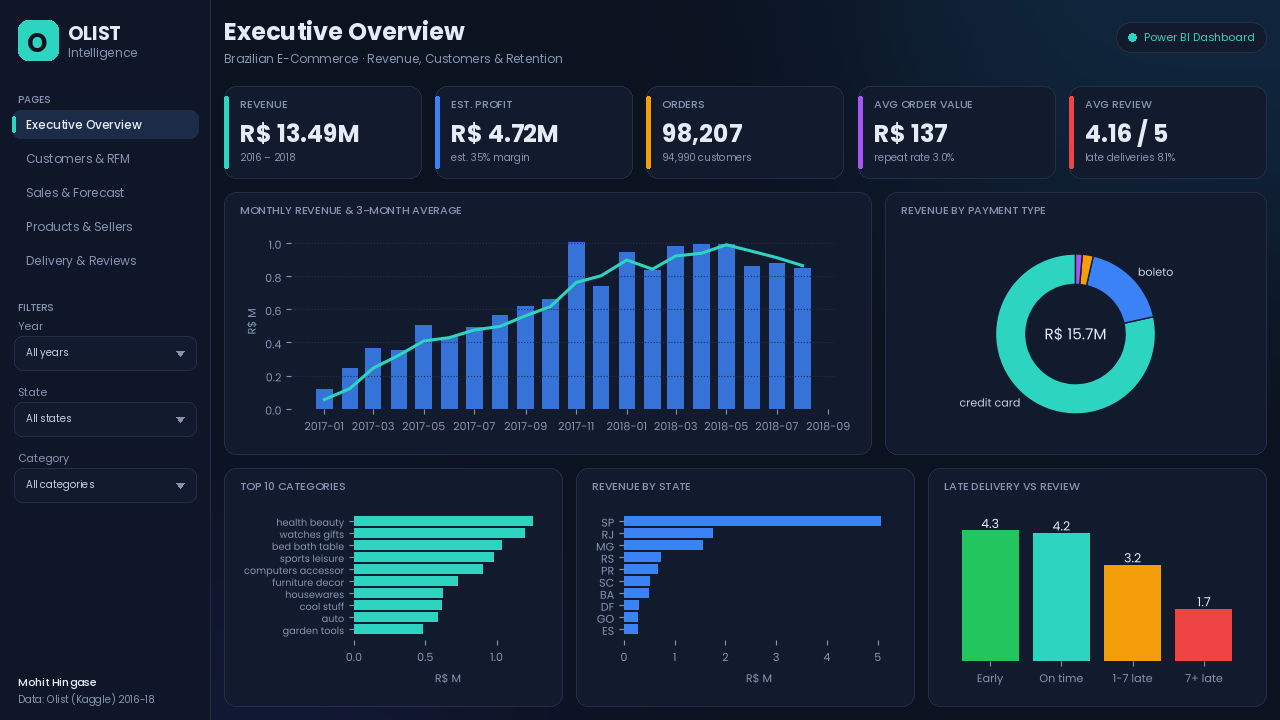

What the dashboard file says about the page in this screenshot:
{"tool":"powerbi","page":{"name":"Executive Overview","canvas":[1280,720],"ordinal":0},"visuals":[{"type":"card","fields":{"Values":["fact_orders.Revenue"]},"box":[234,112,179,62],"z":1000},{"type":"card","fields":{"Values":["fact_orders.Est Gross Profit"]},"box":[445,112,179,62],"z":1000},{"type":"card","fields":{"Values":["fact_orders.Orders"]},"box":[656,112,179,62],"z":1000},{"type":"card","fields":{"Values":["fact_orders.AOV"]},"box":[868,112,179,62],"z":1000},{"type":"card","fields":{"Values":["fact_orders.Avg Review"]},"box":[1079,112,179,62],"z":1000},{"type":"lineClusteredColumnComboChart","fields":{"Category":["dim_date.year_month"],"Y":["fact_orders.Revenue"],"Y2":["fact_orders.Revenue 3M Avg"]},"box":[230,222,635,226],"z":1000},{"type":"donutChart","fields":{"Category":["fact_orders.payment_type"],"Y":["fact_orders.Revenue"]},"box":[891,222,369,226],"z":1000},{"type":"barChart","fields":{"Category":["dim_product.category"],"Y":["fact_order_items.Top10 Category Revenue"]},"box":[230,498,326,202],"z":1000},{"type":"barChart","fields":{"Category":["fact_orders.customer_state"],"Y":["fact_orders.Top10 State Revenue"]},"box":[582,498,326,202],"z":1000},{"type":"columnChart","fields":{"Category":["fact_orders.Delivery Bucket"],"Y":["fact_orders.Bucket Avg Review"]},"box":[934,498,326,202],"z":1000},{"type":"slicer","fields":{"Values":["dim_date.year"]},"box":[14,351,182,40],"z":3000},{"type":"slicer","fields":{"Values":["dim_customer.state"]},"box":[14,417,182,40],"z":3000},{"type":"slicer","fields":{"Values":["dim_product.category"]},"box":[14,483,182,40],"z":3000},{"type":"actionButton","box":[12,144,186,28],"z":4001},{"type":"actionButton","box":[12,178,186,28],"z":4002},{"type":"actionButton","box":[12,212,186,28],"z":4003},{"type":"actionButton","box":[12,246,186,28],"z":4004}]}

Visuals, with their boxes on the page's 1280x720 design canvas (x1, y1, x2, y2). These are canvas units, not pixel positions in the 1280x720 screenshot, which may show the page scaled, cropped or inside an application window:
card - fact_orders.Revenue: (left=234, top=112, right=413, bottom=174)
card - fact_orders.Est Gross Profit: (left=445, top=112, right=624, bottom=174)
card - fact_orders.Orders: (left=656, top=112, right=835, bottom=174)
card - fact_orders.AOV: (left=868, top=112, right=1047, bottom=174)
card - fact_orders.Avg Review: (left=1079, top=112, right=1258, bottom=174)
lineClusteredColumnComboChart - dim_date.year_month x fact_orders.Revenue: (left=230, top=222, right=865, bottom=448)
donutChart - fact_orders.payment_type x fact_orders.Revenue: (left=891, top=222, right=1260, bottom=448)
barChart - dim_product.category x fact_order_items.Top10 Category Revenue: (left=230, top=498, right=556, bottom=700)
barChart - fact_orders.customer_state x fact_orders.Top10 State Revenue: (left=582, top=498, right=908, bottom=700)
columnChart - fact_orders.Delivery Bucket x fact_orders.Bucket Avg Review: (left=934, top=498, right=1260, bottom=700)
slicer - dim_date.year: (left=14, top=351, right=196, bottom=391)
slicer - dim_customer.state: (left=14, top=417, right=196, bottom=457)
slicer - dim_product.category: (left=14, top=483, right=196, bottom=523)
actionButton: (left=12, top=144, right=198, bottom=172)
actionButton: (left=12, top=178, right=198, bottom=206)
actionButton: (left=12, top=212, right=198, bottom=240)
actionButton: (left=12, top=246, right=198, bottom=274)
